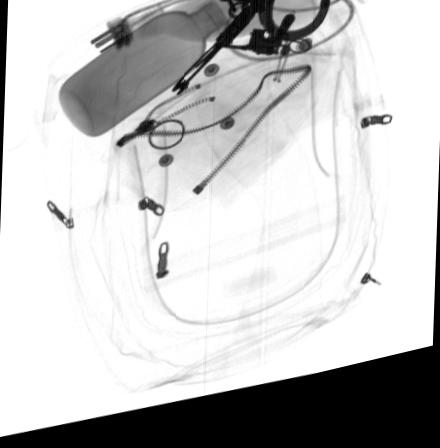Gun: (211, 28, 295, 69)
HandCuffs: (165, 0, 330, 105)
